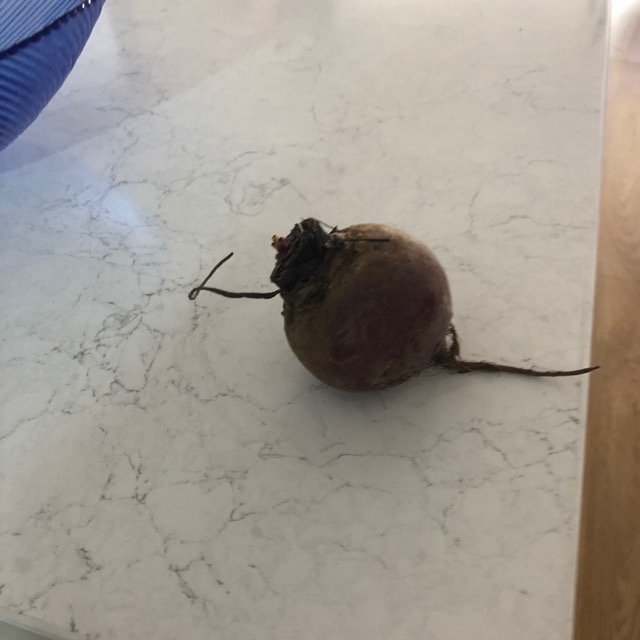beet: (189, 221, 604, 390)
